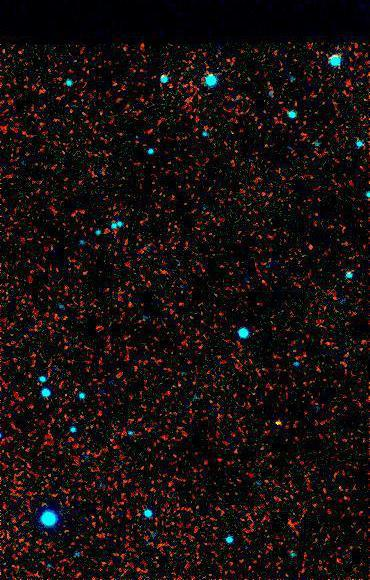star: (262, 408, 292, 438)
